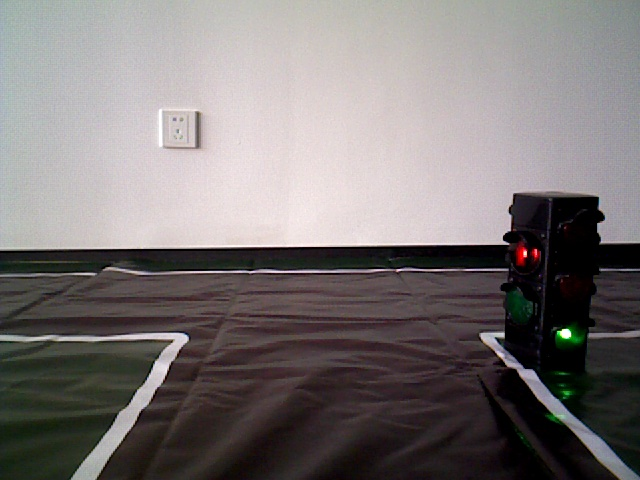green: (511, 194, 591, 370)
